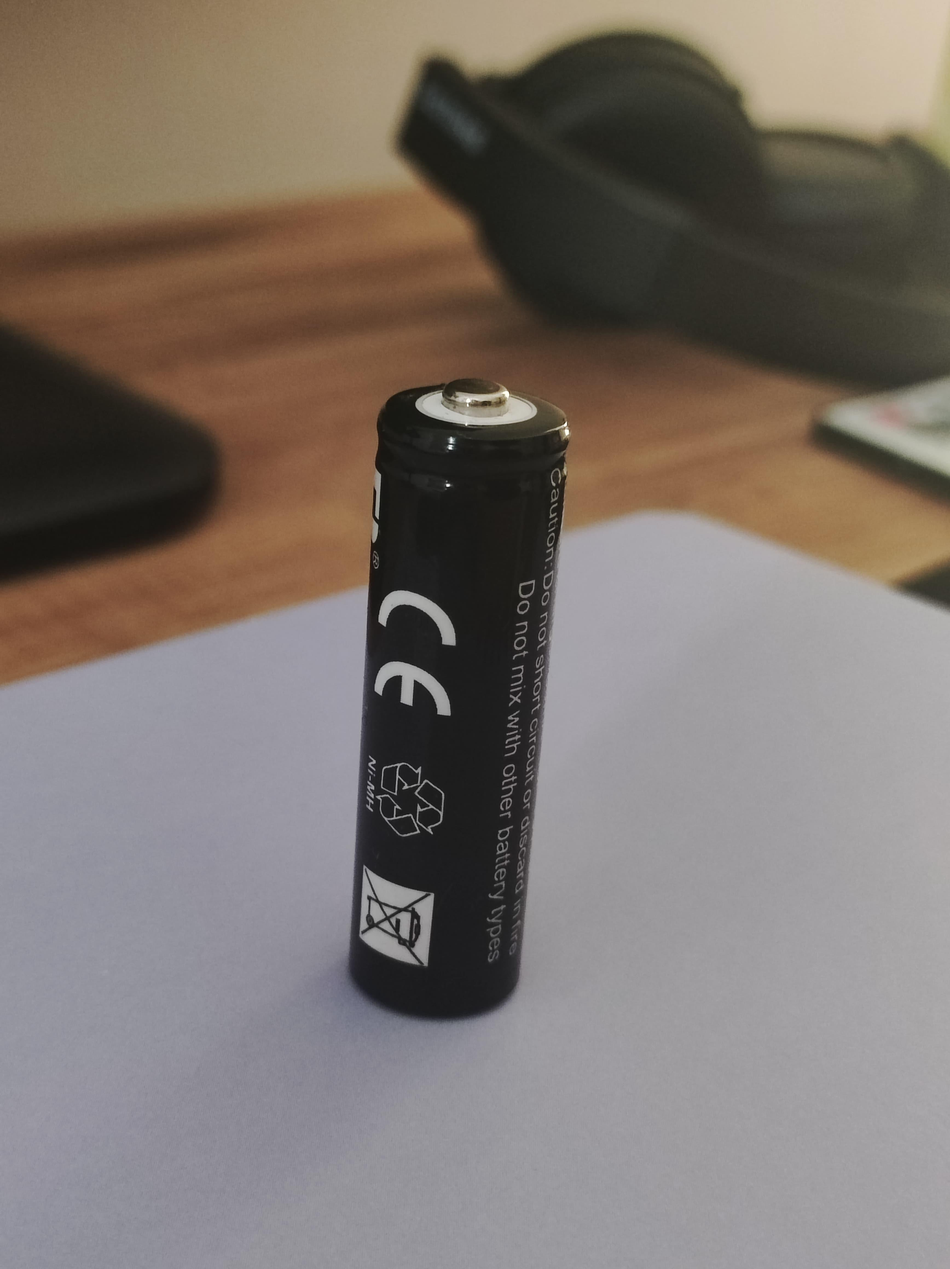AA: (347, 375, 571, 1018)
